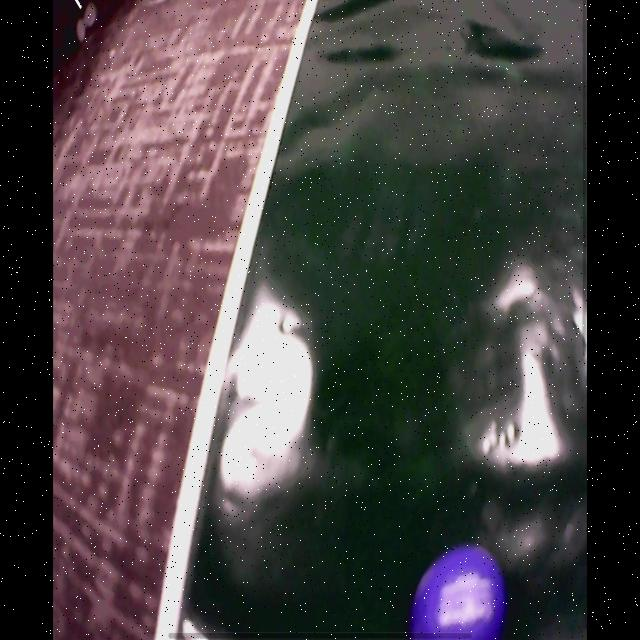ball: (416, 547, 502, 640)
